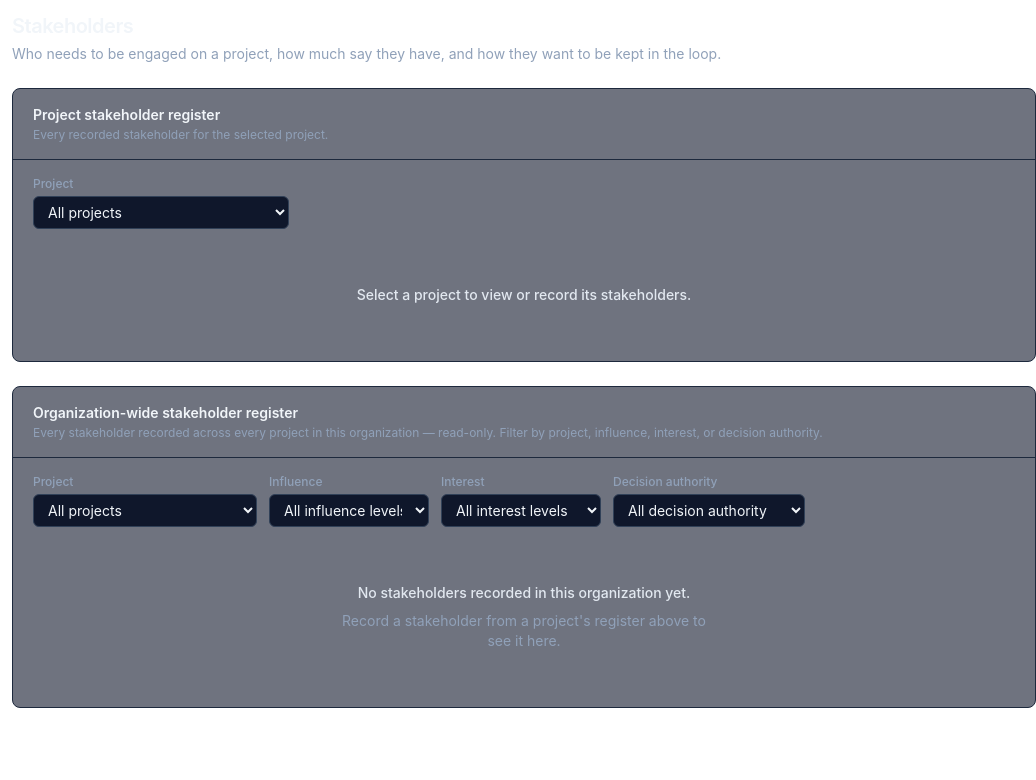
Test case: StakeholdersOverviewPage — organization-wide register (Phase 48) › distinguishes a filtered no-match from an empty organization
This screenshot has width=1036, height=780.
Select "High" in the dropdown labelled "Influence" at (349, 510), box [269,494,429,527]
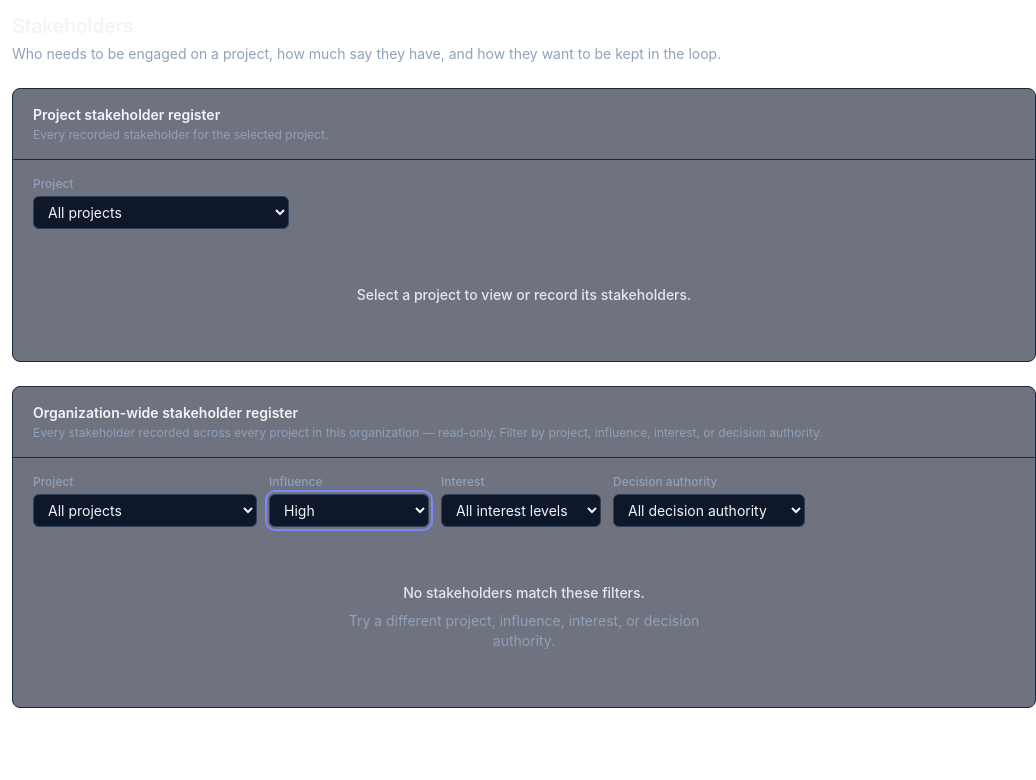
Expected: the text "No stakeholders match these filters." is shown, [403,583,645,603]
Expected: the text "No stakeholders recorded in this organization yet." is gone
